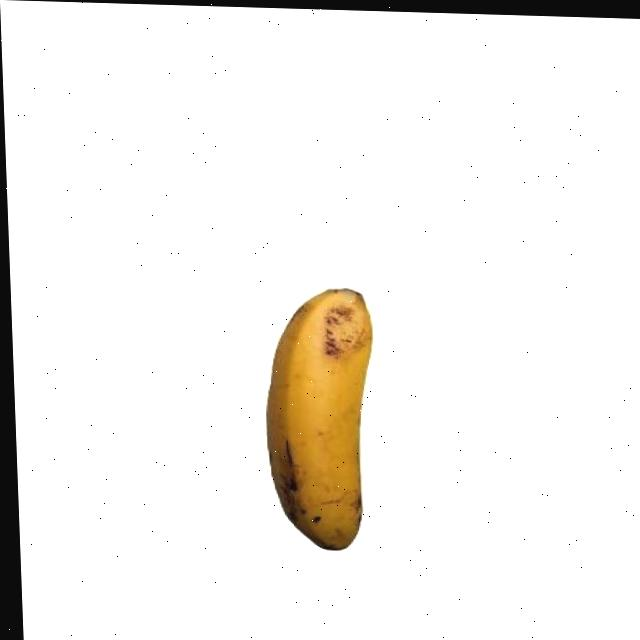banana: (258, 279, 381, 554)
